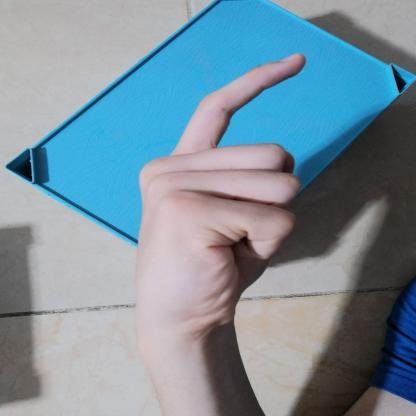RAA: (115, 40, 328, 346)
